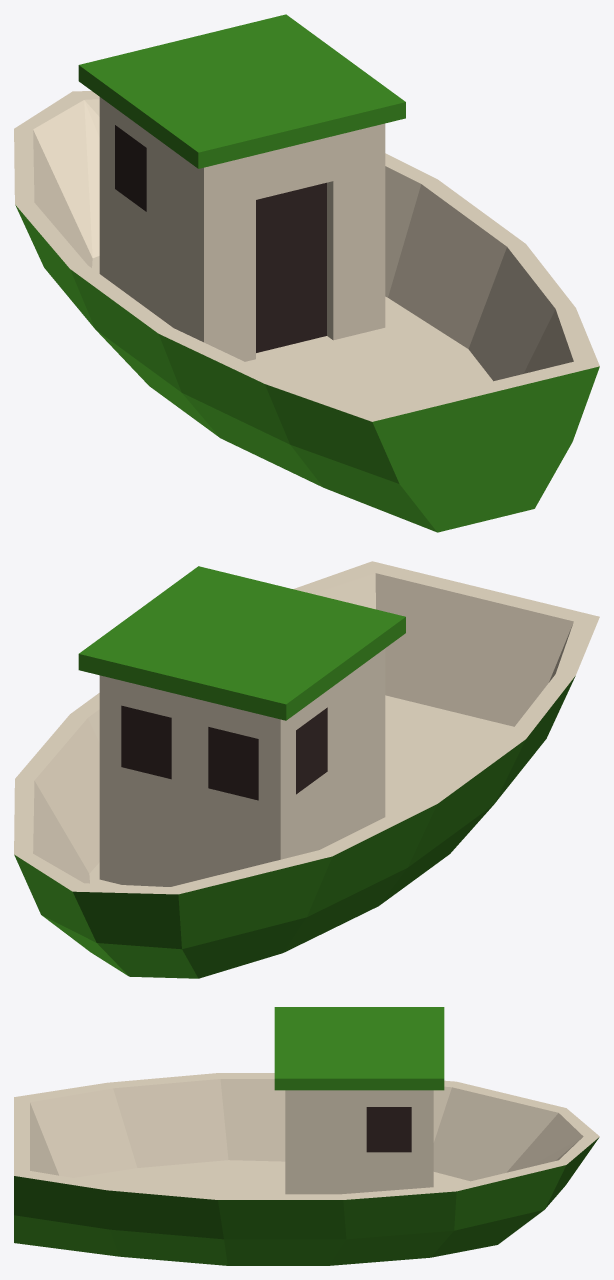
File: FishingBoat.fbx
The picture shows the model from 3 angles, top to bottom: view 1: azimuth 30°, elevation 25°; view 2: azimuth 150°, elevation 25°; view 3: azimuth 270°, elevation 25°; orthographic projection. The views are drawn at different scales.
Visible parts, largest first — view 1: FishingBoat; view 2: FishingBoat; view 3: FishingBoat.
Part boxes in pixels (x1=…): FishingBoat: x1=14, y1=14, x2=599, y2=532; FishingBoat: x1=14, y1=561, x2=599, y2=978; FishingBoat: x1=14, y1=1007, x2=599, y2=1265.
Size of the model in its own units: 2.22 by 1.5 by 4.33.
